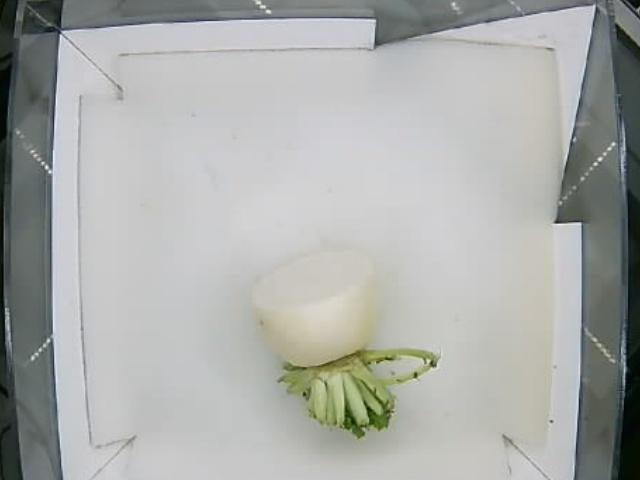Mooli: (253, 245, 431, 436)
